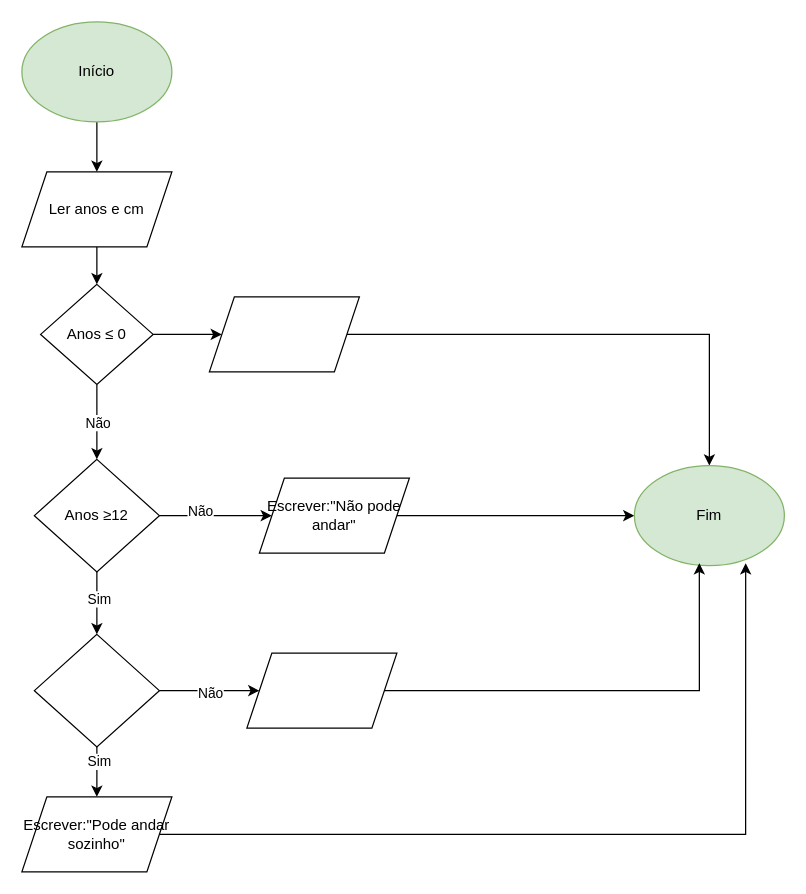
This 806x894 diagram has some shape labels left out. Here are the shapes that lost their labels. From the top down, the box of each, then its label:
(208, 296, 359, 372): Escrever:"Dados inválidos"
(33, 633, 159, 747): Cm ≥ 140
(246, 652, 397, 728): Escrever:"Só pode andar acompanhado por um adulto"
